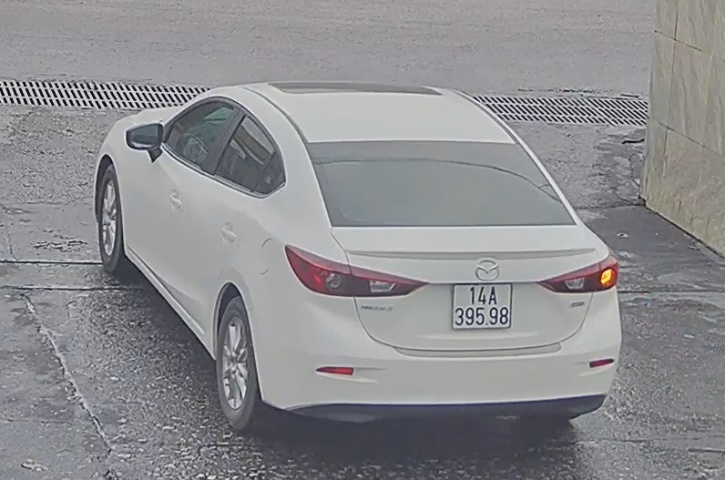vehicle plate: (450, 279, 514, 333)
